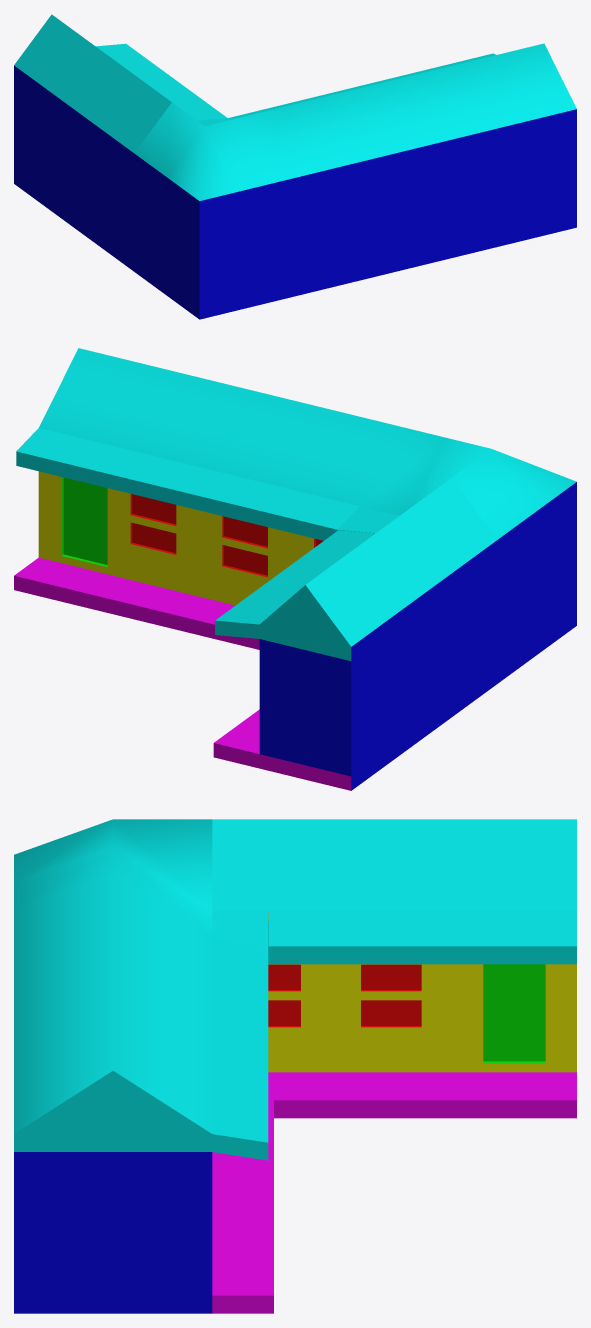
The model's file is House 2.fbx.
3 views of the same model, one above another, from view 1: azimuth 30°, elevation 25°; view 2: azimuth 150°, elevation 25°; view 3: azimuth 270°, elevation 25° (orthographic). The views are drawn at different scales.
Parts seen in each view (by area): view 1: pCube1; view 2: pCube1; view 3: pCube1.
Boxes of the visible parts, x1,y1,x2,y2 form: pCube1: (14, 14, 576, 319); pCube1: (14, 348, 576, 790); pCube1: (14, 819, 576, 1313).
Bounding box in the file's own units: 10 × 4.06 × 8.52.
